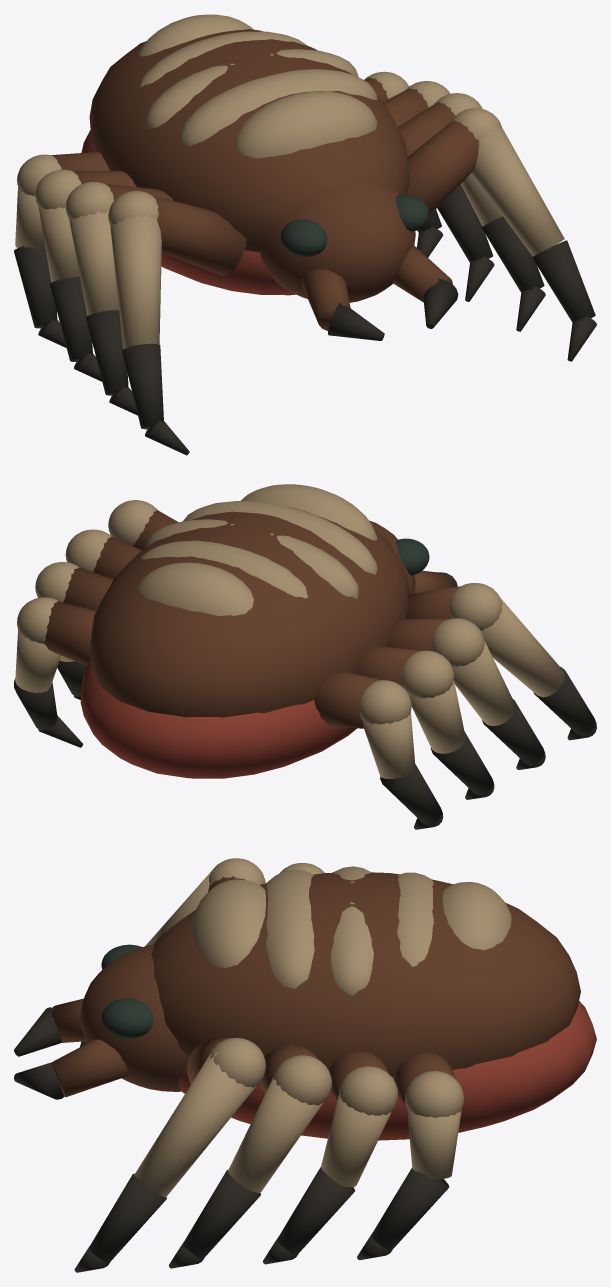
File: OssuaryTick.glb
3 renders of one model, top to bottom at view 1: azimuth 30°, elevation 25°; view 2: azimuth 150°, elevation 25°; view 3: azimuth 270°, elevation 25°, orthographic. The views are drawn at different scales.
Parts seen in each view (by area): view 1: Ossuary seed back, Head wedge, Scute 1, Forelimb -1 0, Forelimb 1 0, Scute 2, Proximal -1 0, Proximal 1 0, Forelimb -1 1, Flattened abdomen, Scute 3, Hook base -1 0 (+33 smaller); view 2: Ossuary seed back, Flattened abdomen, Scute 5, Forelimb -1 0, Scute 2, Scute 4, Scute 1, Forelimb -1 1, Scute 3, Forelimb -1 2, Forelimb -1 3, Proximal -1 3 (+26 smaller); view 3: Ossuary seed back, Flattened abdomen, Head wedge, Forelimb 1 0, Scute 1, Forelimb 1 1, Scute 2, Scute 5, Forelimb 1 2, Scute 3, Hook base 1 0, Hook base 1 1 (+19 smaller).
Boxes of the visible parts, x1=… form: Ossuary seed back: x1=89, y1=29, x2=409, y2=252; Head wedge: x1=259, y1=180, x2=415, y2=302; Scute 1: x1=236, y1=91, x2=377, y2=158; Forelimb -1 0: x1=110, y1=209, x2=161, y2=349; Forelimb 1 0: x1=471, y1=120, x2=564, y2=256; Scute 2: x1=180, y1=69, x2=377, y2=145; Proximal -1 0: x1=152, y1=195, x2=246, y2=275; Proximal 1 0: x1=406, y1=120, x2=479, y2=215; Forelimb -1 1: x1=69, y1=203, x2=118, y2=315; Flattened abdomen: x1=81, y1=130, x2=295, y2=295; Scute 3: x1=145, y1=49, x2=358, y2=128; Hook base -1 0: x1=122, y1=343, x2=163, y2=429; Ossuary seed back: x1=89, y1=507, x2=409, y2=717; Flattened abdomen: x1=80, y1=659, x2=356, y2=778; Scute 5: x1=138, y1=562, x2=253, y2=615; Forelimb -1 0: x1=481, y1=588, x2=564, y2=697; Scute 2: x1=183, y1=501, x2=377, y2=574; Scute 4: x1=140, y1=540, x2=307, y2=598; Scute 1: x1=241, y1=484, x2=377, y2=540; Forelimb -1 1: x1=452, y1=640, x2=515, y2=725; Scute 3: x1=145, y1=519, x2=358, y2=598; Forelimb -1 2: x1=409, y1=680, x2=465, y2=753; Forelimb -1 3: x1=363, y1=712, x2=414, y2=778; Proximal -1 3: x1=314, y1=671, x2=381, y2=728; Ossuary seed back: x1=151, y1=872, x2=580, y2=1076; Flattened abdomen: x1=178, y1=1001, x2=596, y2=1140; Head wedge: x1=80, y1=944, x2=188, y2=1091; Forelimb 1 0: x1=134, y1=1050, x2=256, y2=1197; Scute 1: x1=191, y1=879, x2=265, y2=968; Forelimb 1 1: x1=228, y1=1077, x2=323, y2=1193; Scute 2: x1=266, y1=869, x2=314, y2=988; Scute 5: x1=442, y1=882, x2=511, y2=950; Forelimb 1 2: x1=321, y1=1095, x2=391, y2=1187; Scute 3: x1=331, y1=866, x2=373, y2=995; Hook base 1 0: x1=89, y1=1173, x2=166, y2=1263; Hook base 1 1: x1=183, y1=1170, x2=260, y2=1258.
Bounding box in the file's own units: 0.7471 × 0.4067 × 0.7681.
